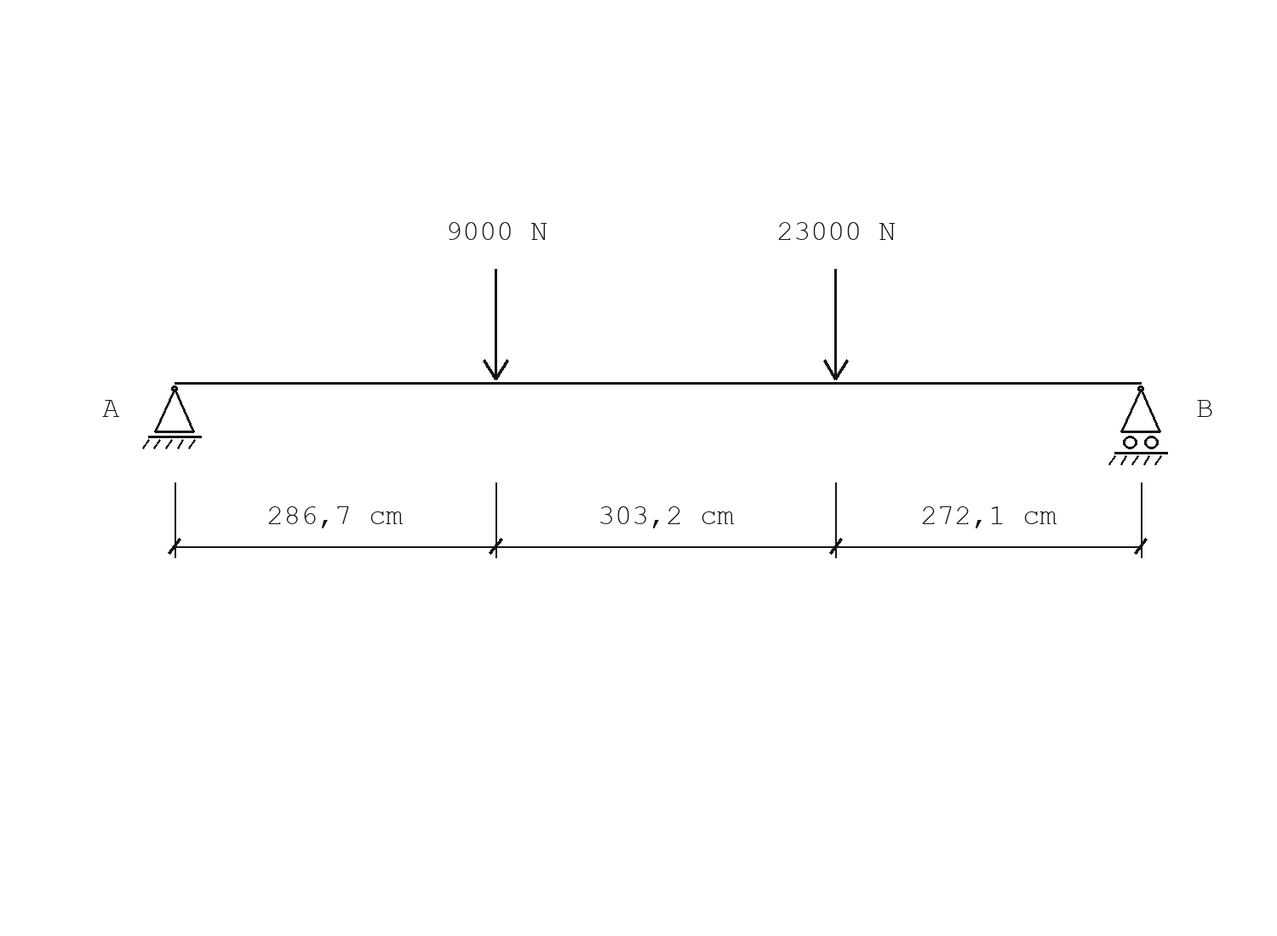pin_support: (142, 385, 202, 449)
point_load: (483, 269, 509, 380), (823, 269, 849, 380)
roller_support: (1108, 385, 1168, 465)
